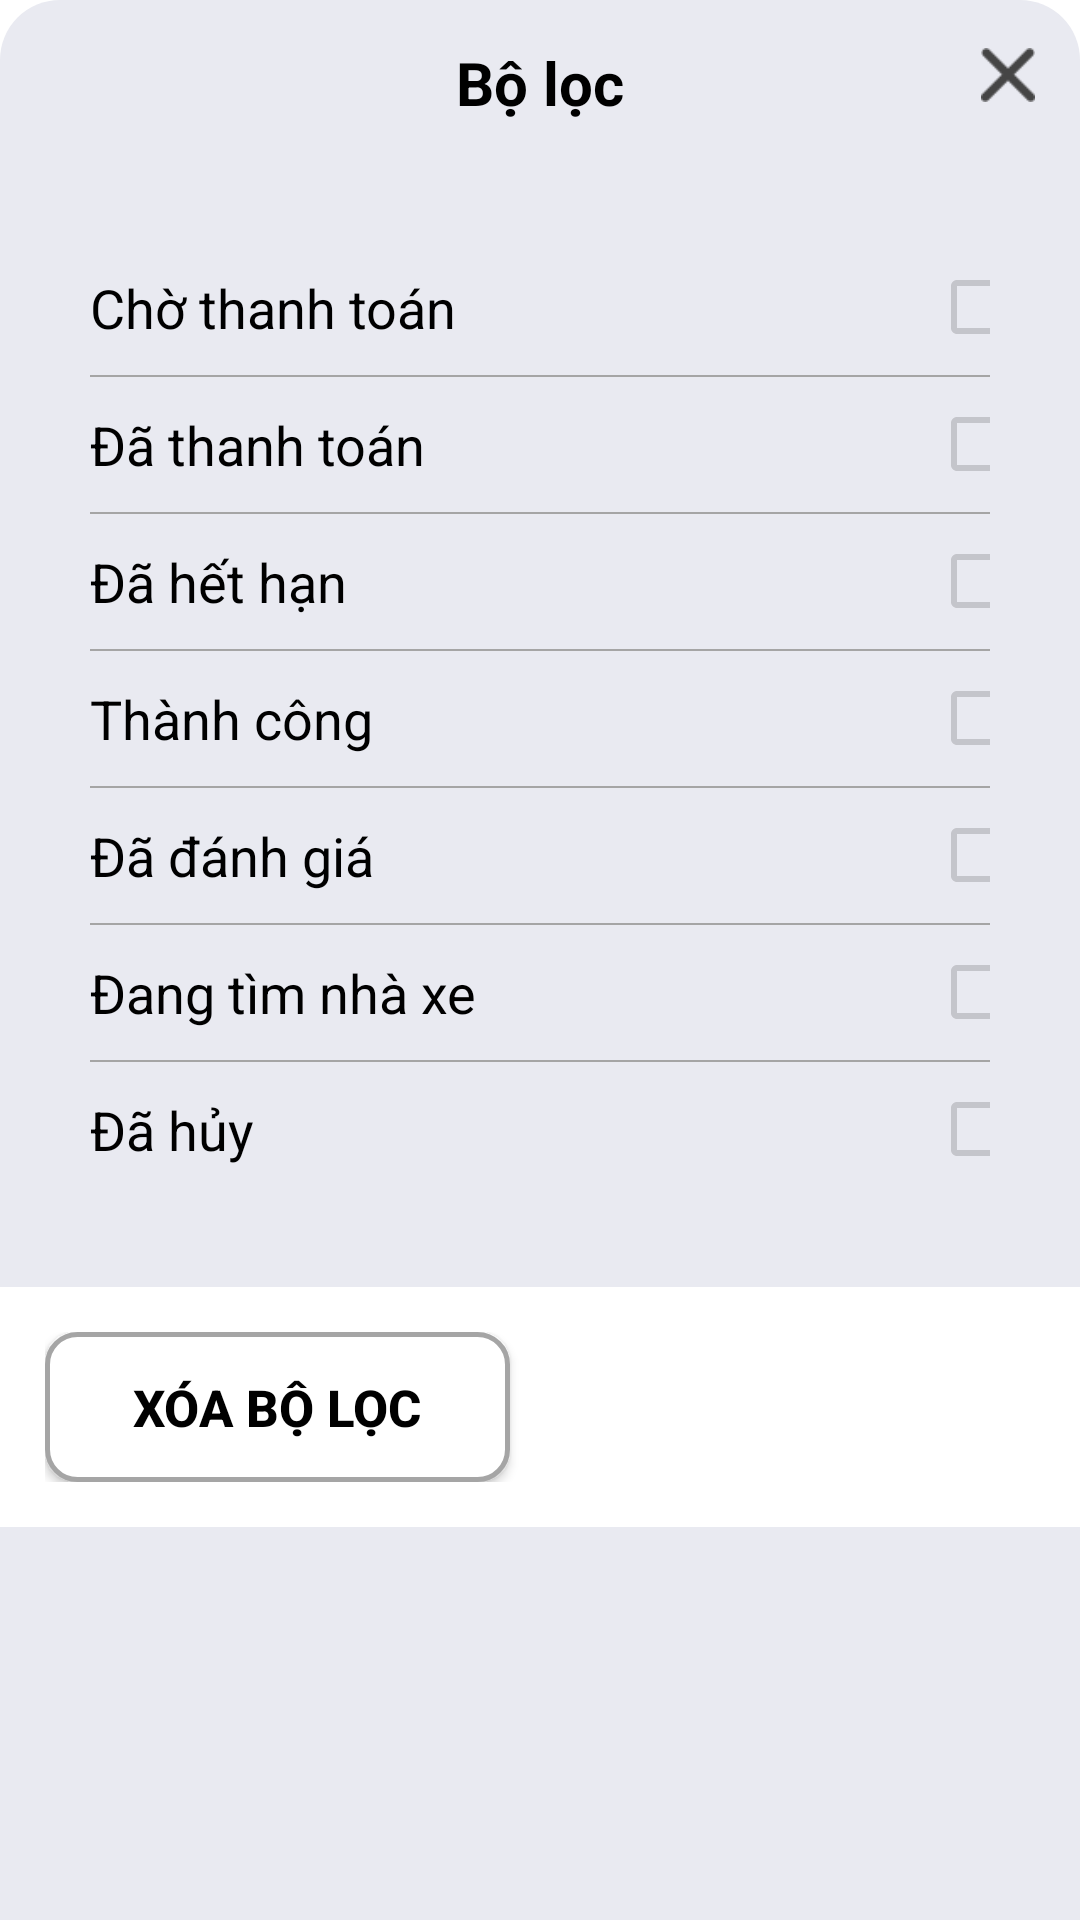

Icon bounding boxes for this 1080w x 1920h phone screenshot, format {"left": x1, "top": y1, "right": x2, "bottom": y2}:
multiply: {"left": 981, "top": 48, "right": 1035, "bottom": 102}
